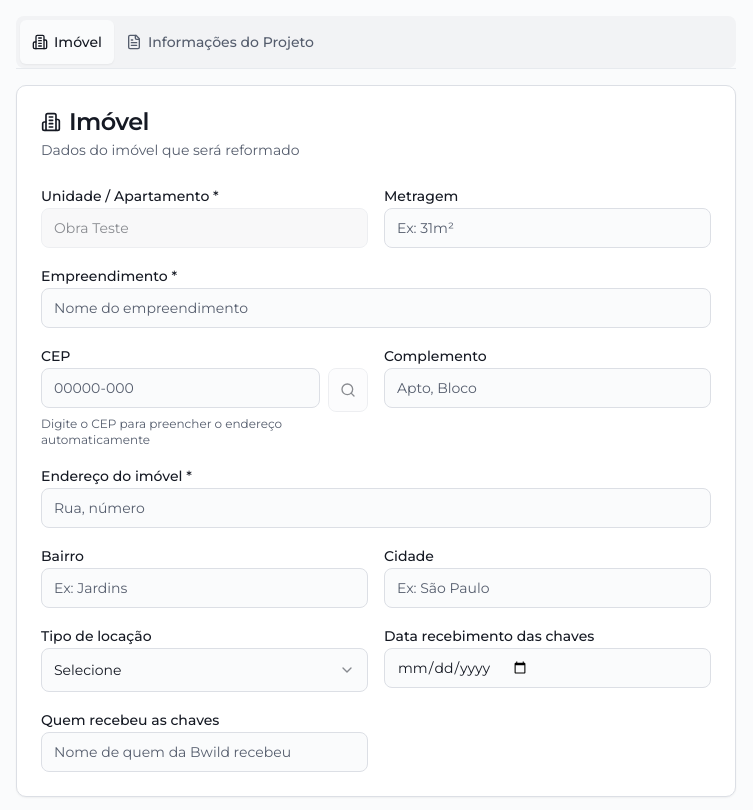
DadosCliente · Acesso à obra (persistência) › persiste Local da chave e Senha ao salvar e recarrega ao remontar
Earlier steps of the test are not shown.
Click the tab "Informações do Projeto". click: (220, 42)
box: [114,20,326,64]
(page scrolled)
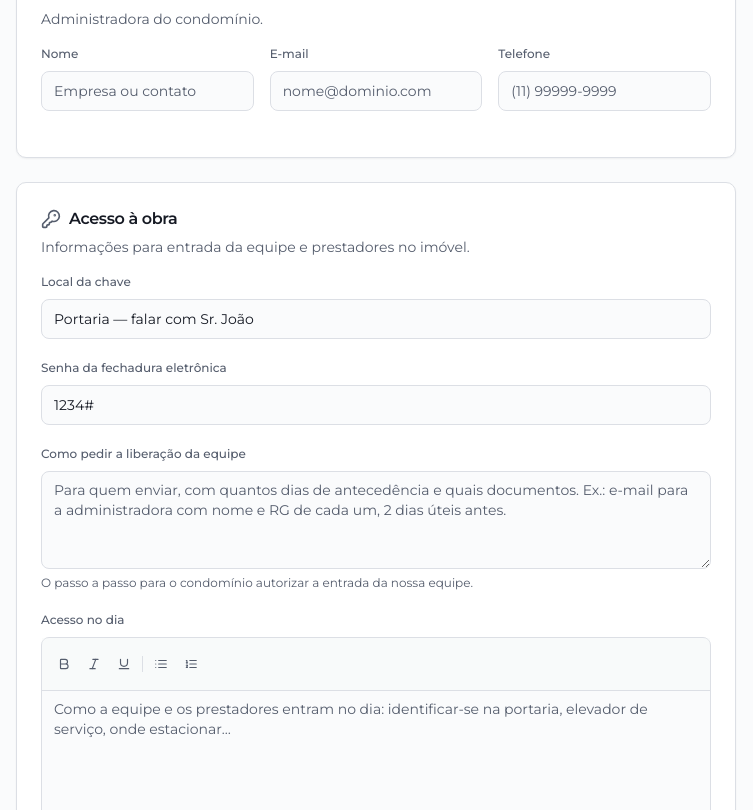
expect the field labelled "Local da chave" holds "Portaria — falar com Sr. João": met, box [41,299,711,339]
expect the field labelled "Senha da fechadura eletrônica" holds "1234#": met, box [41,385,711,425]
